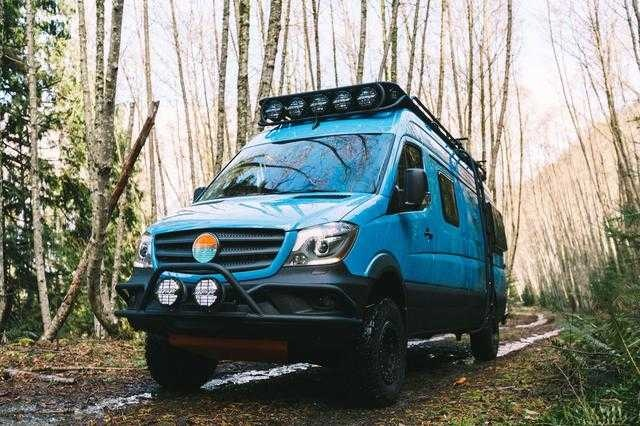van: (116, 81, 509, 408)
